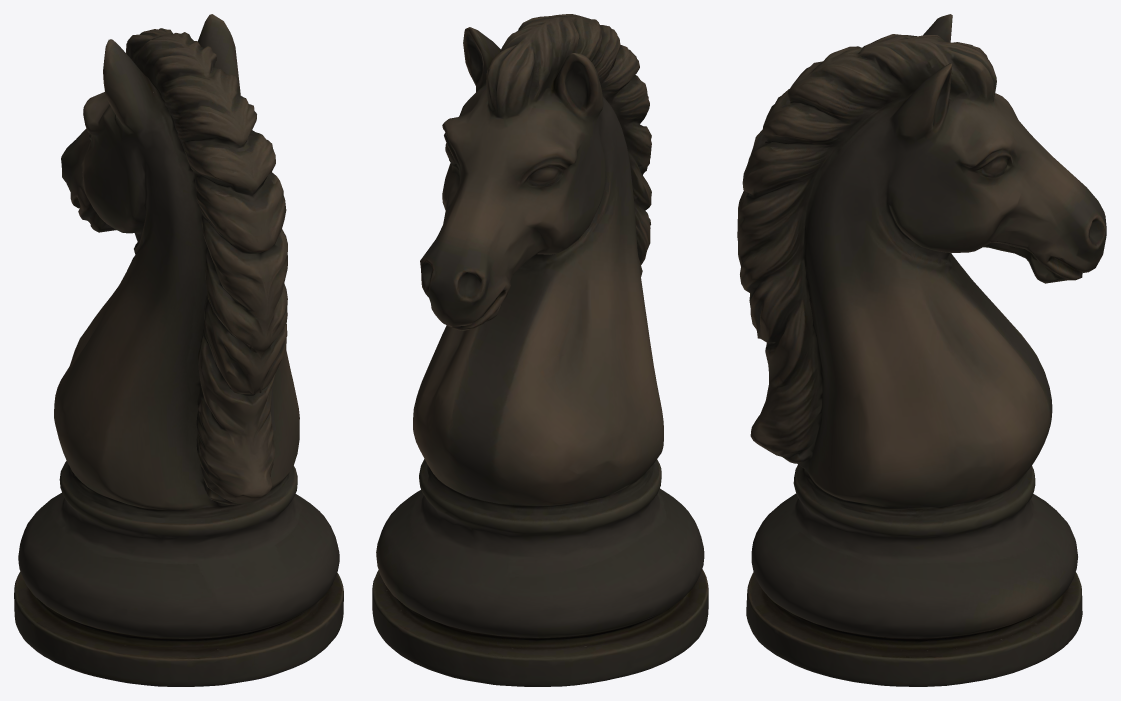
File: knight.glb
3 renders of one model, left to right at view 1: azimuth 30°, elevation 25°; view 2: azimuth 150°, elevation 25°; view 3: azimuth 270°, elevation 25°, orthographic. The views are drawn at different scales.
Visible parts, largest first — view 1: tripo_node_44b5fb91-2d7e-48b1-8a93-25acf03c23da; view 2: tripo_node_44b5fb91-2d7e-48b1-8a93-25acf03c23da; view 3: tripo_node_44b5fb91-2d7e-48b1-8a93-25acf03c23da.
Part boxes in pixels (x1,y1,x2,y2): tripo_node_44b5fb91-2d7e-48b1-8a93-25acf03c23da: (14, 14, 343, 686); tripo_node_44b5fb91-2d7e-48b1-8a93-25acf03c23da: (372, 14, 708, 686); tripo_node_44b5fb91-2d7e-48b1-8a93-25acf03c23da: (737, 14, 1106, 686).
Bounding box in the file's own units: 0.5163 × 1 × 0.5772.
Materials: 1 (1 with a texture image).
